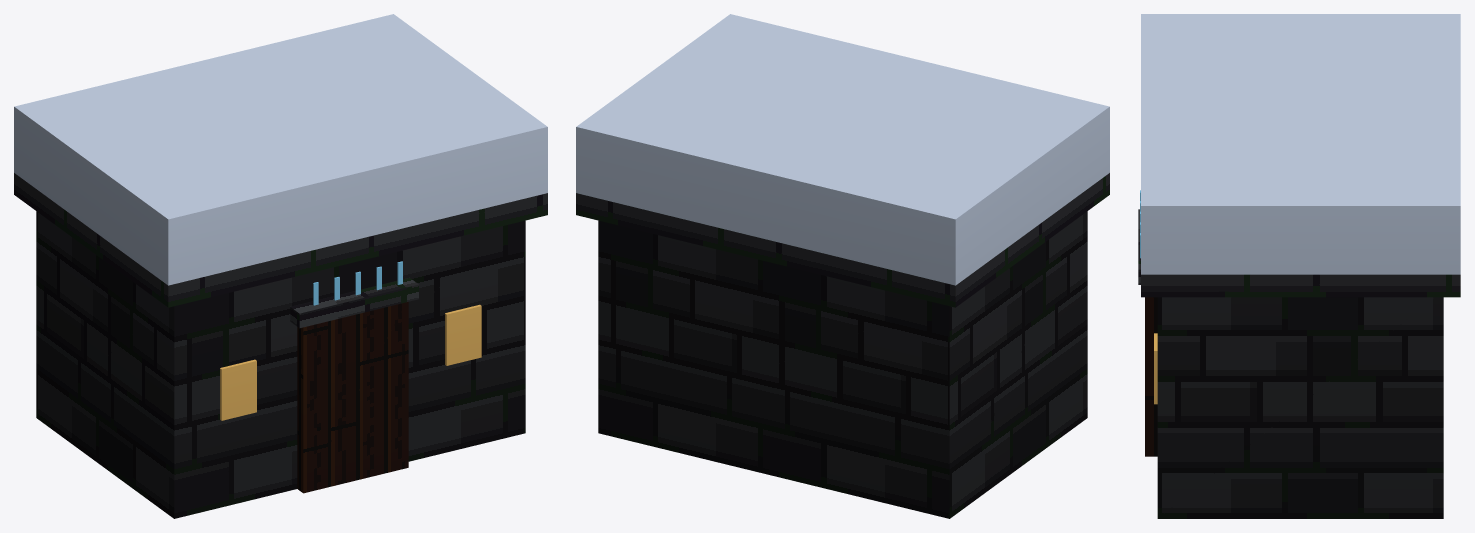
Rendered from speaker_hall.glb.
3 renders of one model, left to right at view 1: azimuth 30°, elevation 25°; view 2: azimuth 150°, elevation 25°; view 3: azimuth 270°, elevation 25°, orthographic. The views are drawn at different scales.
Parts seen in each view (by area): view 1: speaker_hall; view 2: speaker_hall; view 3: speaker_hall.
Boxes of the visible parts, left/top/right/bottom form: speaker_hall: left=14, top=14, right=547, bottom=518; speaker_hall: left=576, top=14, right=1109, bottom=518; speaker_hall: left=1138, top=14, right=1460, bottom=518.
Bounding box in the file's own units: 5.4 × 4.2 × 3.83.
Materials: 5 (2 with a texture image).
